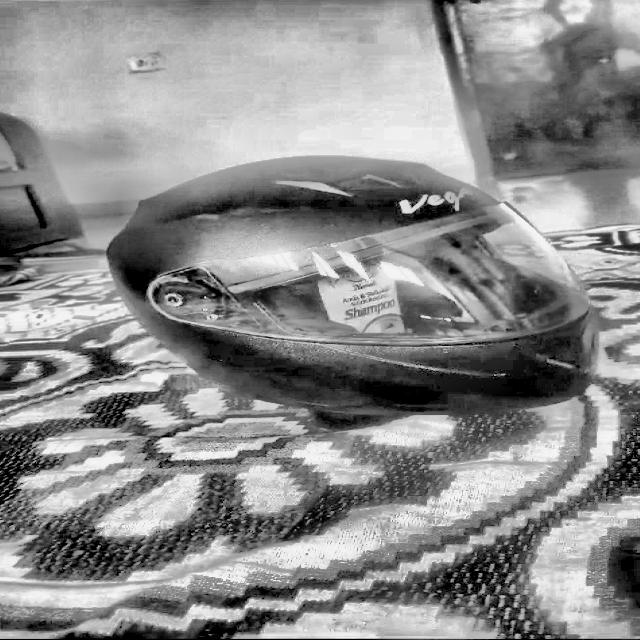Helmet: (98, 142, 640, 426)
